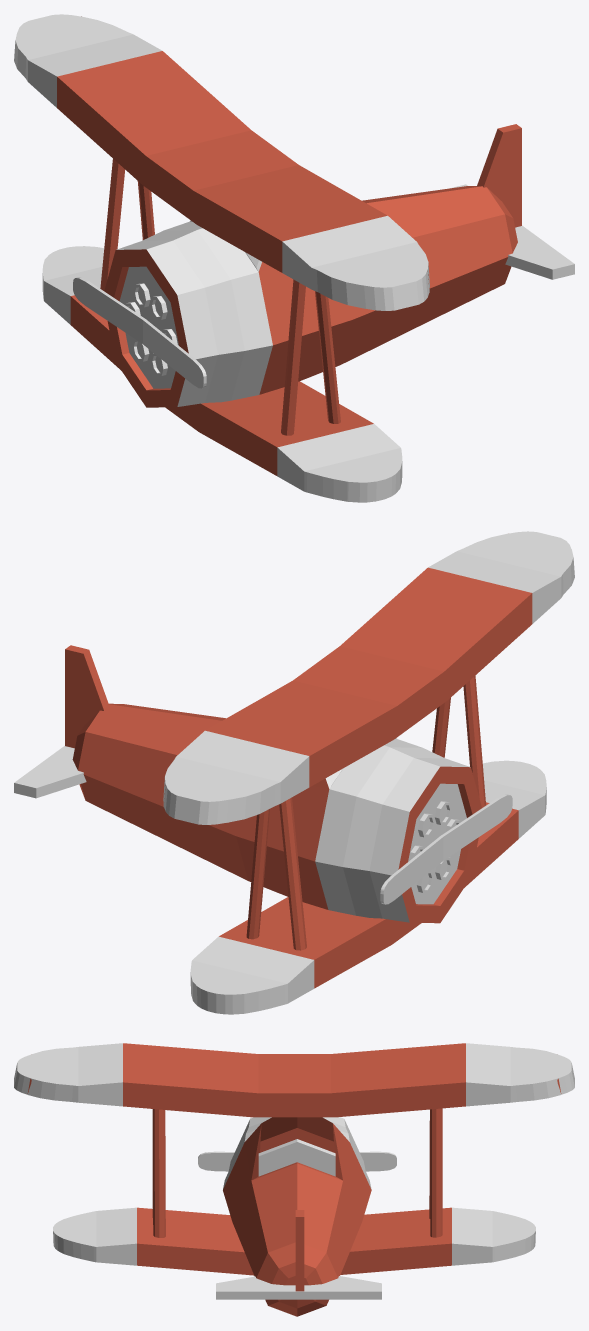
3 views of the same model, one above another, from view 1: azimuth 30°, elevation 25°; view 2: azimuth 150°, elevation 25°; view 3: azimuth 270°, elevation 25° (orthographic). The views are drawn at different scales.
Visible parts, largest first — view 1: Cube.001, Cylinder, Cylinder.001, Cube.003, Cube.002, Cylinder.002; view 2: Cube.001, Cylinder, Cylinder.001, Cube.003, Cube.002, Cylinder.002; view 3: Cube.001, Cylinder, Cube.003, Cylinder.001, Cube.002.
Boxes of the visible parts, <box> form: Cube.001: <box>14,14,429,502</box>; Cylinder: <box>104,186,517,407</box>; Cylinder.001: <box>100,159,340,435</box>; Cube.003: <box>449,124,574,279</box>; Cube.002: <box>73,277,206,388</box>; Cylinder.002: <box>125,283,177,375</box>; Cube.001: <box>163,531,574,1014</box>; Cylinder: <box>72,703,481,923</box>; Cylinder.001: <box>246,675,486,950</box>; Cube.003: <box>14,645,108,798</box>; Cube.002: <box>380,794,512,904</box>; Cylinder.002: <box>408,801,460,892</box>; Cube.001: <box>14,1043,574,1275</box>; Cylinder: <box>223,1117,371,1316</box>; Cube.003: <box>216,1210,381,1299</box>; Cylinder.001: <box>152,1108,442,1237</box>; Cube.002: <box>198,1151,396,1171</box>.
Bounding box in the file's own units: 5.3 × 3.38 × 8.82.
